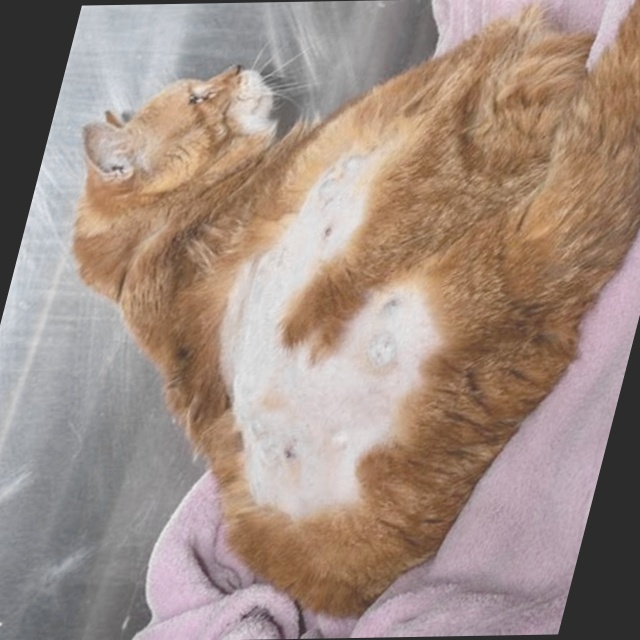hairloss: (171, 168, 446, 497)
